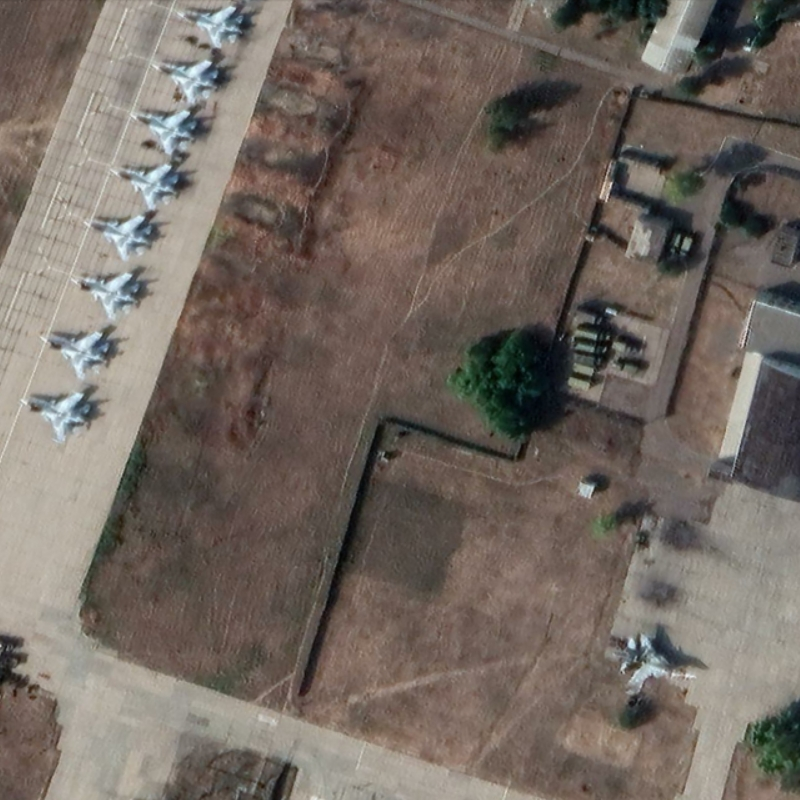A19: (609, 625, 702, 700), (35, 325, 117, 383), (62, 264, 145, 321), (78, 210, 159, 264), (17, 388, 95, 444), (122, 106, 204, 159), (106, 159, 184, 211), (149, 55, 226, 106), (169, 3, 248, 52)
